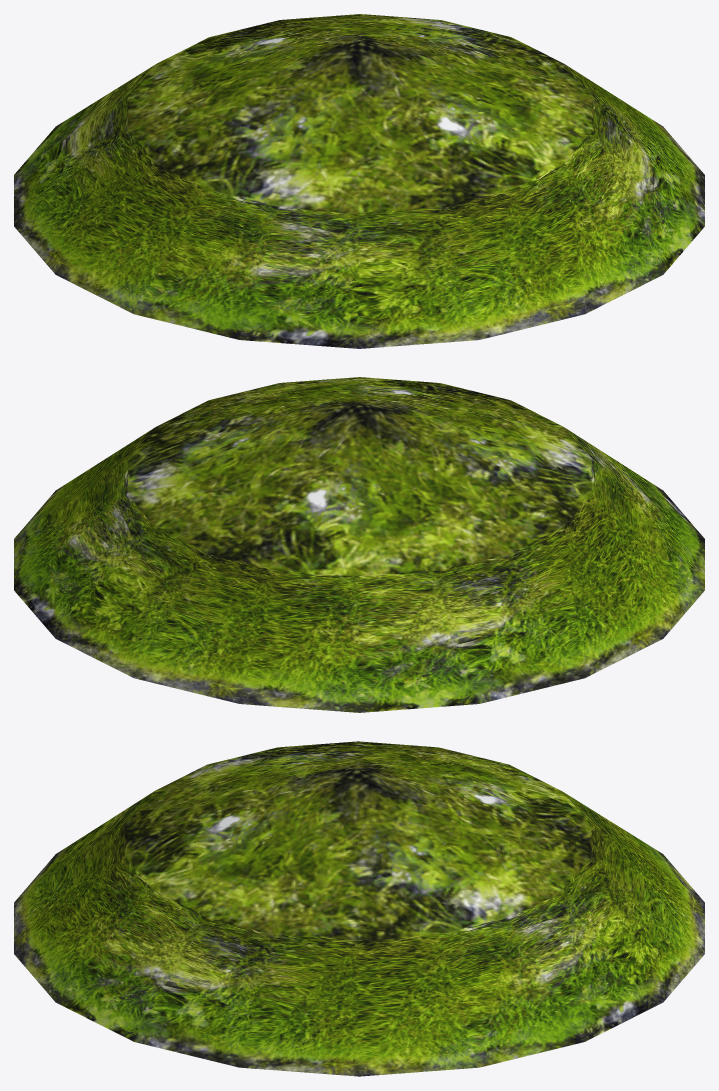
Rendered from mossCircle.FBX.
3 views of the same model, one above another, from view 1: azimuth 30°, elevation 25°; view 2: azimuth 150°, elevation 25°; view 3: azimuth 270°, elevation 25° (orthographic).
Visible parts, largest first — view 1: Cylinder002; view 2: Cylinder002; view 3: Cylinder002.
Boxes of the visible parts, x1,y1,x2,y2 form: Cylinder002: (14, 14, 704, 348); Cylinder002: (14, 377, 704, 712); Cylinder002: (14, 741, 704, 1076).
Bounding box in the file's own units: 264 × 65.65 × 260.
